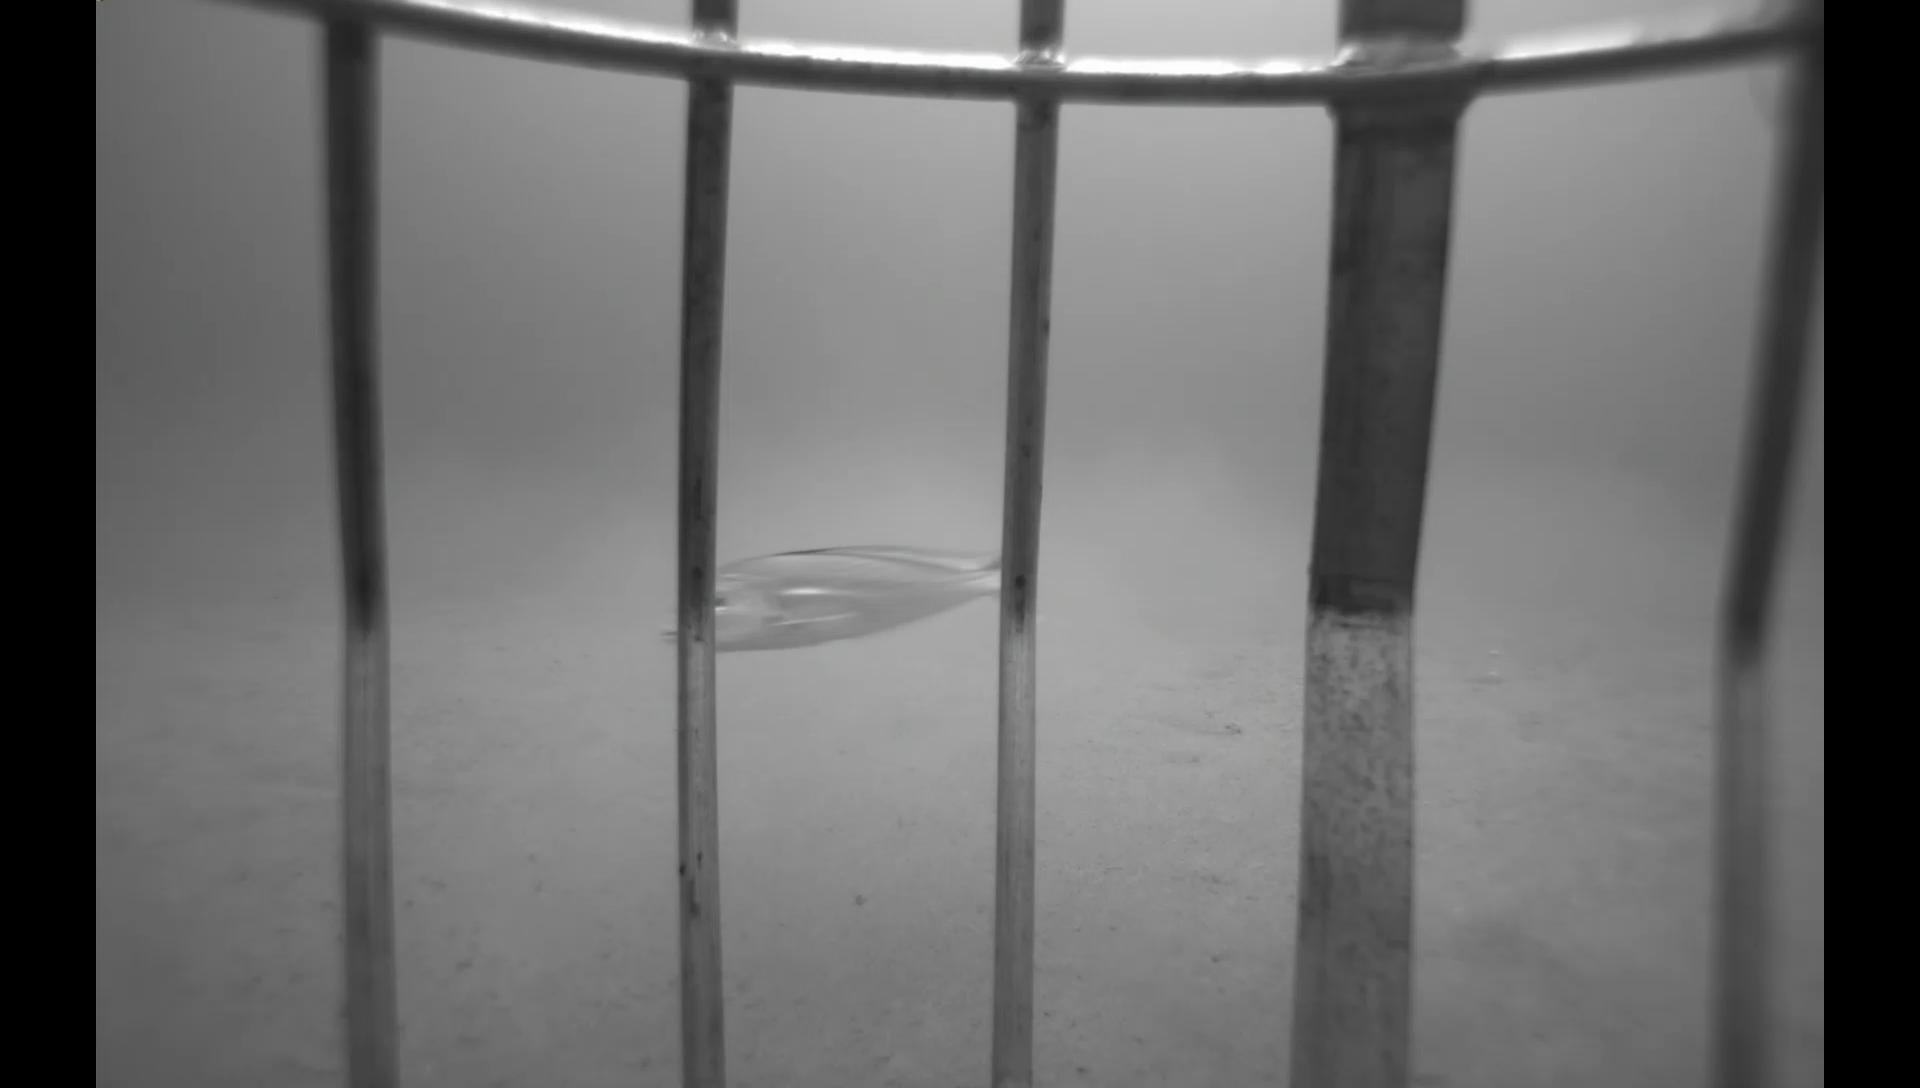CAULOLATILUSCYANOPS-170070101: (654, 526, 1002, 661)
SYACIUM-183011000: (1143, 699, 1249, 742)
